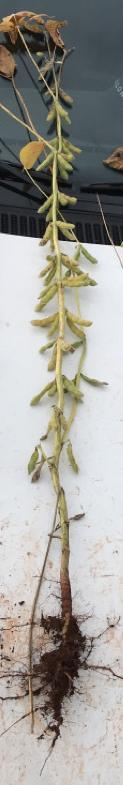soja: (77, 364, 108, 390), (33, 289, 61, 314), (32, 192, 58, 217), (63, 437, 80, 474), (67, 267, 96, 288), (67, 308, 97, 328), (32, 380, 54, 406), (27, 313, 61, 329), (78, 243, 101, 265), (25, 446, 43, 473), (35, 148, 53, 175), (63, 136, 85, 156), (54, 104, 75, 124), (40, 223, 54, 252), (36, 58, 51, 83), (51, 404, 62, 438), (67, 319, 86, 338), (40, 337, 59, 355), (36, 282, 54, 301), (48, 349, 63, 371), (53, 229, 78, 242), (45, 318, 63, 335), (62, 145, 79, 163), (60, 89, 78, 106), (63, 192, 81, 208), (33, 265, 52, 280), (56, 157, 75, 172), (32, 457, 43, 481), (45, 203, 63, 217), (43, 107, 56, 125), (54, 222, 79, 231), (61, 279, 87, 287), (56, 166, 69, 181)
